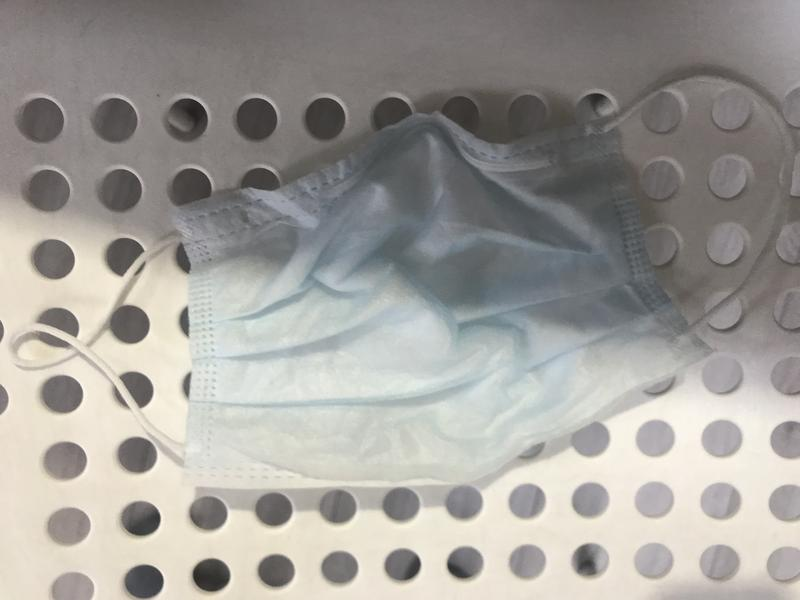medical_mask: (8, 74, 787, 479)
